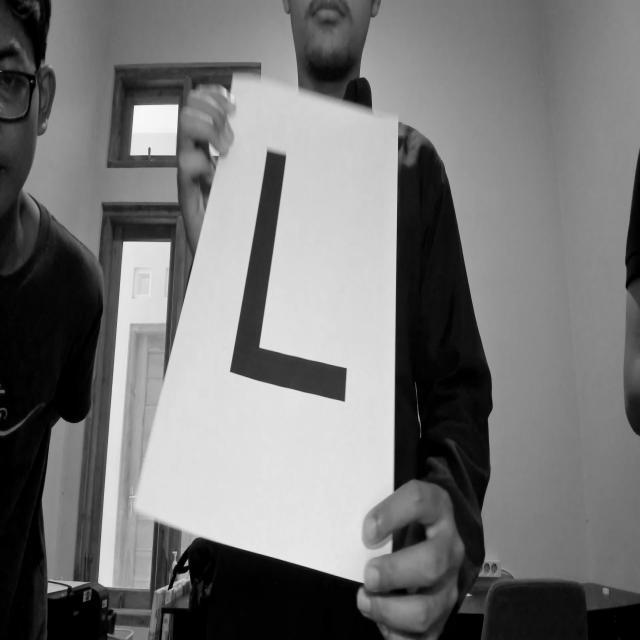l: (221, 127, 361, 434)
